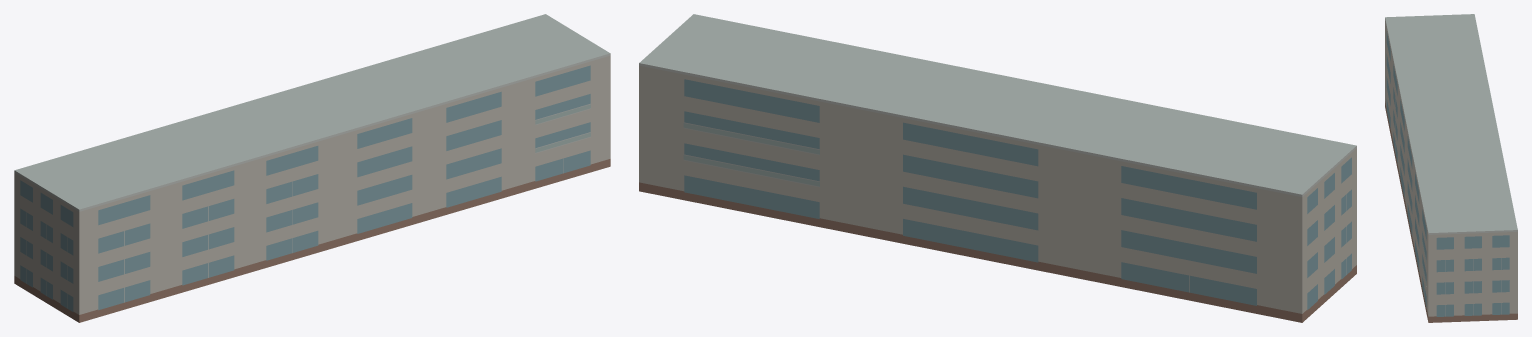
Rendered from residential-cf1a5cd2-1f92-45ab-b910-0968ed662b37.glb.
3 views of the same model, side by side, from view 1: azimuth 30°, elevation 25°; view 2: azimuth 150°, elevation 25°; view 3: azimuth 270°, elevation 25° (orthographic). The views are drawn at different scales.
Parts seen in each view (by area): view 1: residential-cf1a5cd2-1f92-45ab-b910-0968ed662b37.tmp; view 2: residential-cf1a5cd2-1f92-45ab-b910-0968ed662b37.tmp; view 3: residential-cf1a5cd2-1f92-45ab-b910-0968ed662b37.tmp.
Part boxes in pixels (<box>): residential-cf1a5cd2-1f92-45ab-b910-0968ed662b37.tmp: <box>14,14,610,322</box>; residential-cf1a5cd2-1f92-45ab-b910-0968ed662b37.tmp: <box>639,14,1356,322</box>; residential-cf1a5cd2-1f92-45ab-b910-0968ed662b37.tmp: <box>1385,14,1517,322</box>.
Size of the model in its own units: 63.89 by 12.2 by 16.38.
